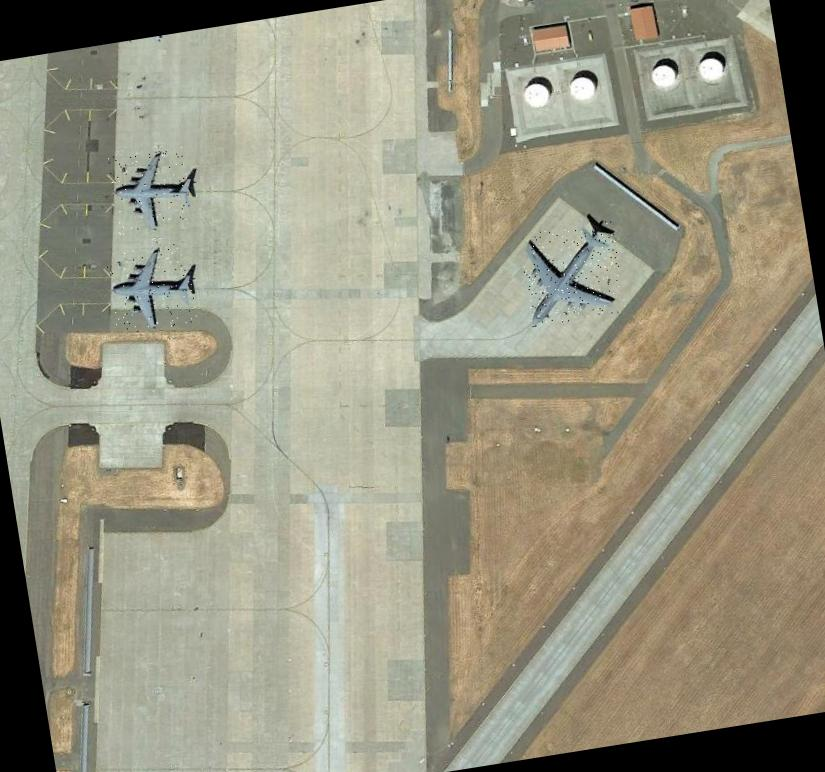A3: (105, 242, 198, 334), (106, 145, 196, 235)
A4: (518, 220, 626, 326)
